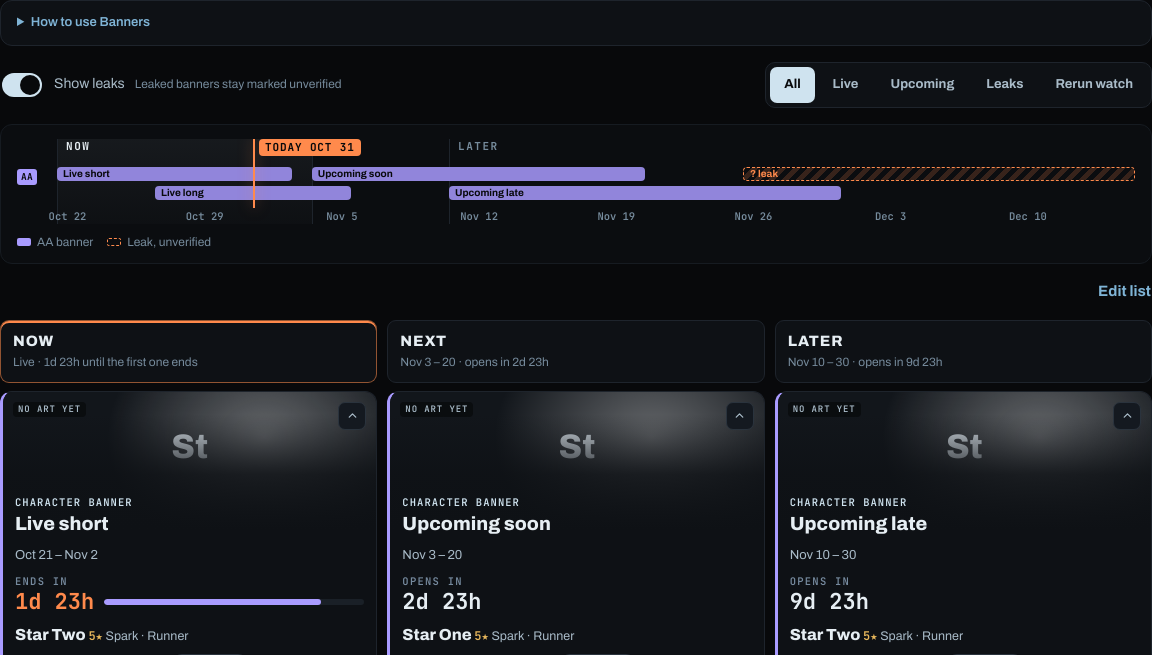
Test: Banners screen › every banner opens as a big card (owner: all like the Now one); its arrow folds it to a compact tile and back
Expected: the text "Ends in" is shown, [15,574,68,588]
Expected: the text "Opens in" below "Nov 3 – 20 · opens in 2d 23h" is shown, [402,574,463,588]
Click the button named "Show less" below "Nov 3 – 20 · opens in 2d 23h": point(740, 416) [726,402,754,430]
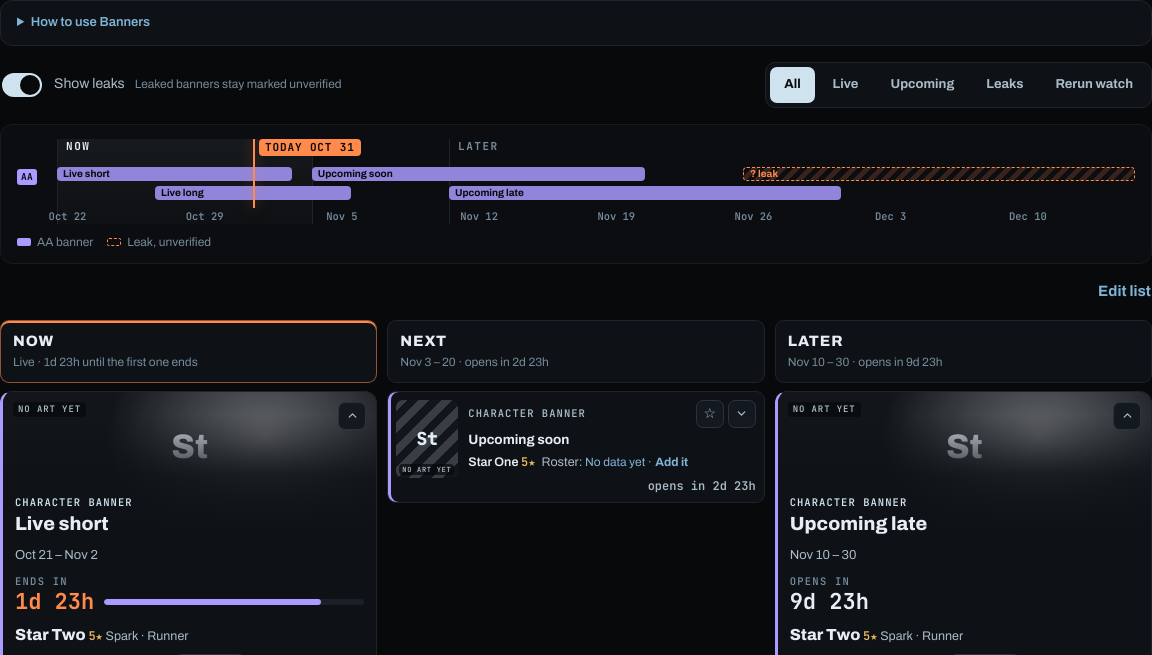
Expected: the button "Plan pulls" is not shown
Result: the text "opens in 2d 23h" is shown at [648,478,756,494]
Click the button named "Details": point(742, 414) [728,400,756,428]
(page scrolled)
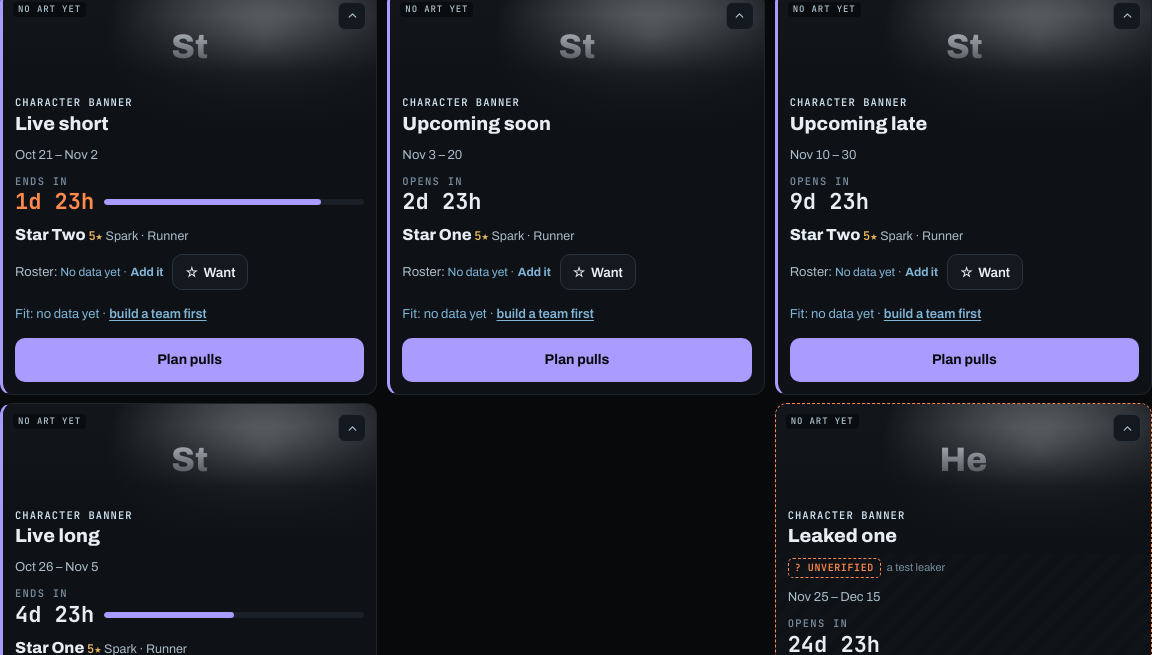
Result: the 2nd button "Plan pulls" is shown at [402,338,752,382]
